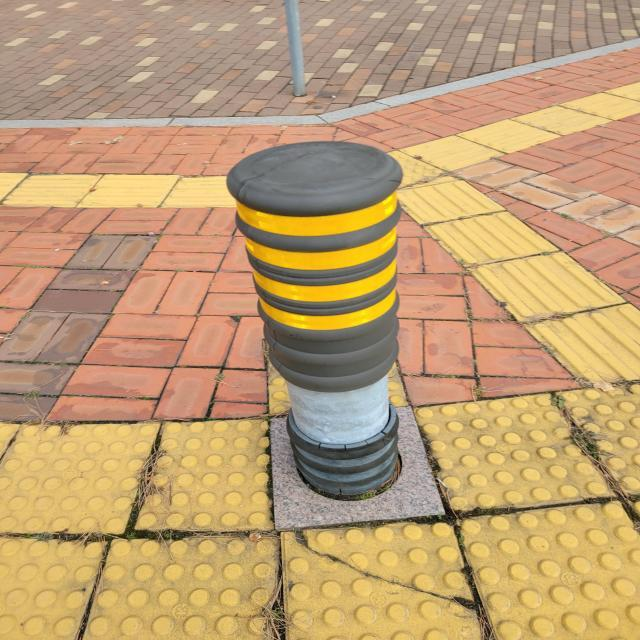pole: (232, 137, 412, 497)
